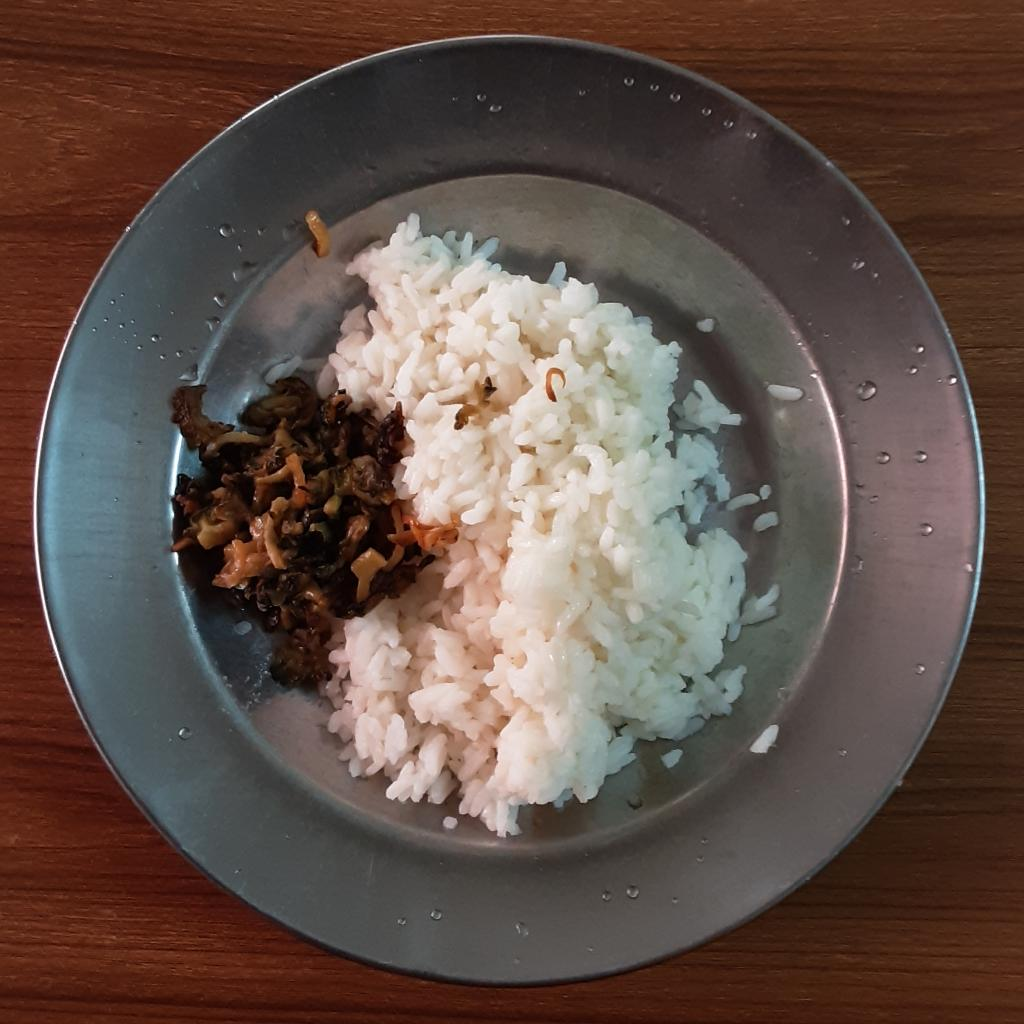korola-vaji: (166, 382, 438, 689)
rice: (263, 211, 784, 840), (657, 745, 684, 771)
